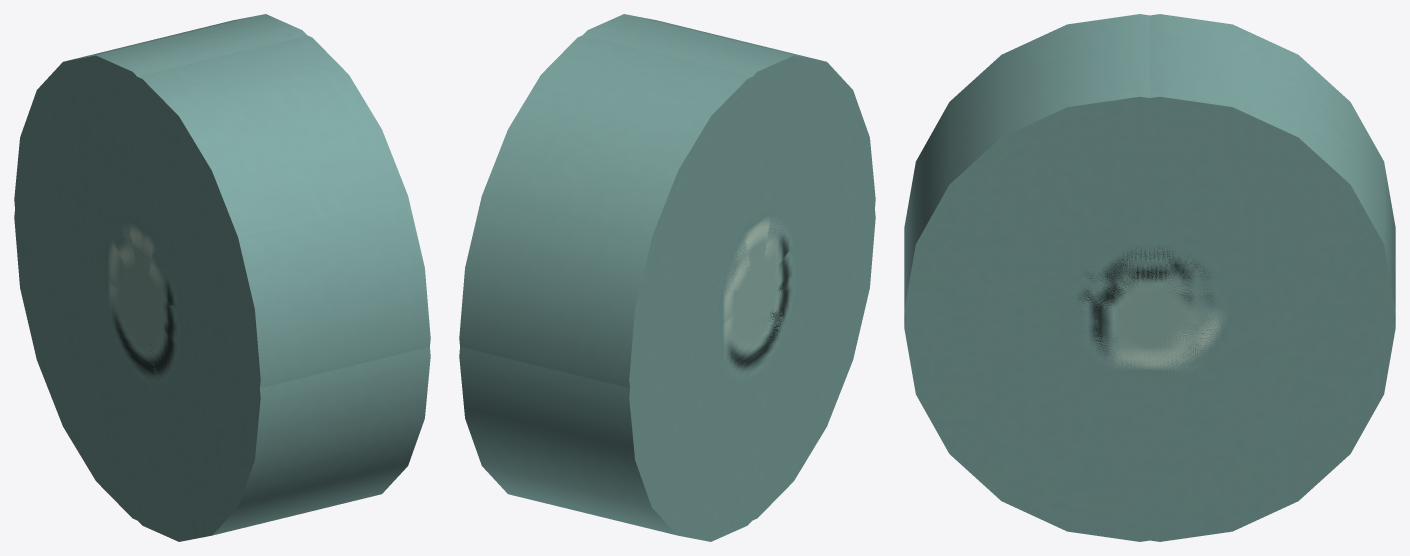
The model's file is QuadWheels_fbx.fbx.
3 views of the same model, side by side, from view 1: azimuth 30°, elevation 25°; view 2: azimuth 150°, elevation 25°; view 3: azimuth 270°, elevation 25° (orthographic).
Visible parts, largest first — view 1: wheelA6, wheelA, wheelA7, wheelA1, wheelA4, wheelA3, wheelA5; view 2: wheelA4, wheelA, wheelA5, wheelA1, wheelA6, wheelA2, wheelA7; view 3: wheelA5, wheelA2, wheelA7, wheelA3, wheelA6, wheelA4.
Boxes of the visible parts, x1,y1,x2,y2 form: wheelA6: [25, 42, 413, 523]; wheelA: [24, 81, 413, 541]; wheelA7: [165, 35, 430, 382]; wheelA1: [14, 73, 249, 534]; wheelA4: [14, 18, 289, 463]; wheelA3: [259, 347, 430, 523]; wheelA5: [85, 14, 306, 72]; wheelA4: [477, 42, 862, 392]; wheelA: [639, 73, 875, 531]; wheelA5: [459, 35, 734, 383]; wheelA1: [476, 83, 861, 541]; wheelA6: [600, 18, 875, 505]; wheelA2: [459, 347, 659, 531]; wheelA7: [583, 14, 806, 72]; wheelA5: [924, 22, 1395, 523]; wheelA2: [924, 115, 1395, 541]; wheelA7: [904, 22, 1373, 523]; wheelA3: [904, 115, 1373, 541]; wheelA6: [904, 14, 1149, 300]; wheelA4: [1150, 14, 1395, 300].
Size of the model in its own units: 1.17 by 2.94 by 2.94.
